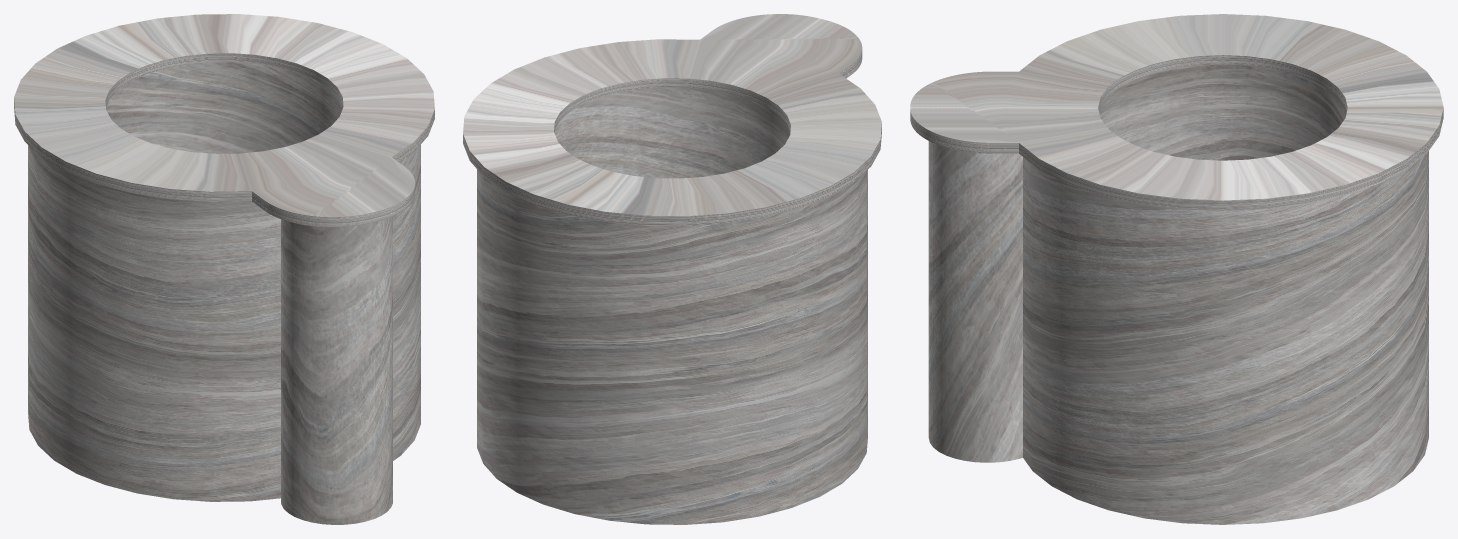
File: MainTreeZone.fbx
3 views of the same model, side by side, from view 1: azimuth 30°, elevation 25°; view 2: azimuth 150°, elevation 25°; view 3: azimuth 270°, elevation 25° (orthographic). The views are drawn at different scales.
Parts seen in each view (by area): view 1: maintreezone; view 2: maintreezone; view 3: maintreezone.
Part boxes in pixels (x1=…): maintreezone: x1=14, y1=14, x2=434, y2=524; maintreezone: x1=463, y1=14, x2=881, y2=524; maintreezone: x1=910, y1=14, x2=1443, y2=524.
Bounding box in the file's own units: 375 × 310 × 453.
1 material, 1 textured.
